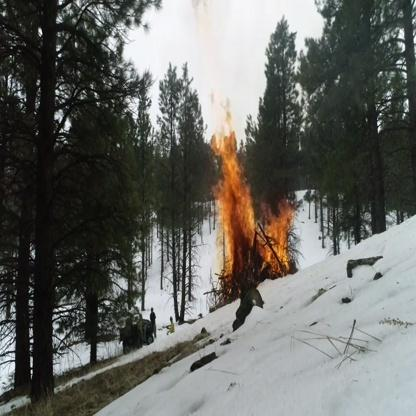Fire: (185, 0, 300, 298)
